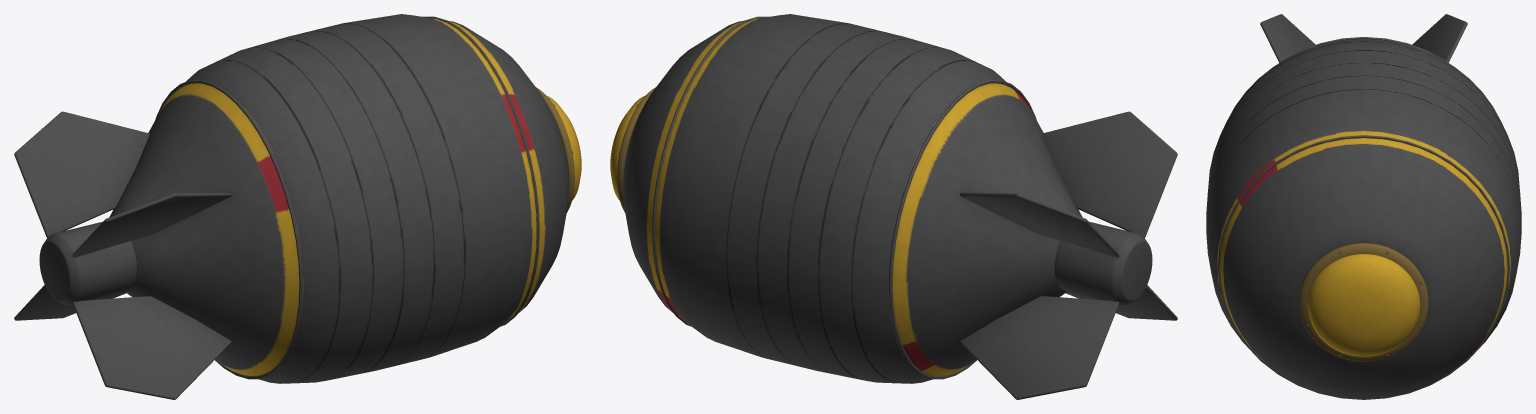
The model's file is bomb.glb.
3 renders of one model, left to right at view 1: azimuth 30°, elevation 25°; view 2: azimuth 150°, elevation 25°; view 3: azimuth 270°, elevation 25°, orthographic. The views are drawn at different scales.
Parts seen in each view (by area): view 1: bomb_MaterialGroup_03, bomb_MaterialGroup_02.002, bomb_MaterialGroup_02.004, bomb_MaterialGroup_02, bomb_MaterialGroup_02.003, Curved casing band, Curved casing band.001, bomb_MaterialGroup_02.001, bomb_MaterialGroup_01, bomb_MaterialGroup_00; view 2: bomb_MaterialGroup_03, bomb_MaterialGroup_02.001, bomb_MaterialGroup_02.003, bomb_MaterialGroup_02, bomb_MaterialGroup_02.004, Curved casing band, Curved casing band.001, bomb_MaterialGroup_02.002, bomb_MaterialGroup_01, bomb_MaterialGroup_00; view 3: bomb_MaterialGroup_03, bomb_MaterialGroup_00, bomb_MaterialGroup_01, Curved casing band.001, bomb_MaterialGroup_02.003, bomb_MaterialGroup_02.004, Curved casing band.
Boxes of the visible parts, <box> form: bomb_MaterialGroup_03: <box>109,14,568,383</box>; bomb_MaterialGroup_02.002: <box>72,296,231,399</box>; bomb_MaterialGroup_02.004: <box>14,111,149,237</box>; bomb_MaterialGroup_02: <box>39,221,136,305</box>; bomb_MaterialGroup_02.003: <box>72,192,231,257</box>; Curved casing band: <box>155,80,303,379</box>; Curved casing band.001: <box>422,16,539,326</box>; bomb_MaterialGroup_02.001: <box>14,285,126,320</box>; bomb_MaterialGroup_01: <box>536,87,574,212</box>; bomb_MaterialGroup_00: <box>547,96,581,200</box>; bomb_MaterialGroup_03: <box>623,14,1082,383</box>; bomb_MaterialGroup_02.001: <box>960,296,1119,399</box>; bomb_MaterialGroup_02.003: <box>1042,111,1177,237</box>; bomb_MaterialGroup_02: <box>1055,221,1152,305</box>; bomb_MaterialGroup_02.004: <box>960,192,1119,257</box>; Curved casing band: <box>888,80,1036,379</box>; Curved casing band.001: <box>652,16,769,326</box>; bomb_MaterialGroup_02.002: <box>1065,285,1177,320</box>; bomb_MaterialGroup_01: <box>617,87,655,212</box>; bomb_MaterialGroup_00: <box>610,96,644,200</box>; bomb_MaterialGroup_03: <box>1206,39,1521,399</box>; bomb_MaterialGroup_00: <box>1307,254,1420,356</box>; bomb_MaterialGroup_01: <box>1299,243,1428,361</box>; Curved casing band.001: <box>1218,135,1509,399</box>; bomb_MaterialGroup_02.003: <box>1260,14,1315,62</box>; bomb_MaterialGroup_02.004: <box>1412,14,1467,62</box>; Curved casing band: <box>1278,37,1449,63</box>.
Bounding box in the file's own units: 2.87 × 1.68 × 1.68.
1 material, 1 textured.
